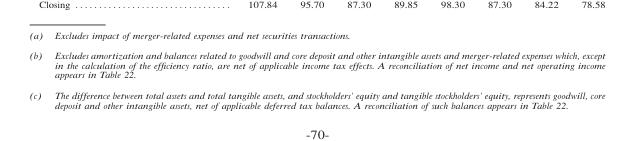table: (28, 28, 604, 110)
table column: (47, 28, 604, 110), (28, 28, 47, 110)
table row: (28, 44, 604, 84), (28, 84, 604, 110), (28, 28, 604, 44)
